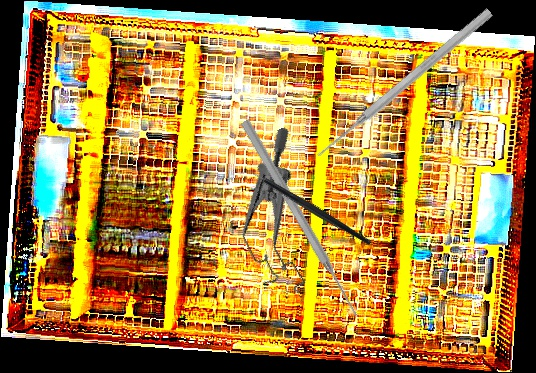Chopper: (237, 134, 373, 281)
Pusher: (313, 5, 495, 162), (238, 118, 363, 320)
Speculum: (204, 125, 356, 307)
